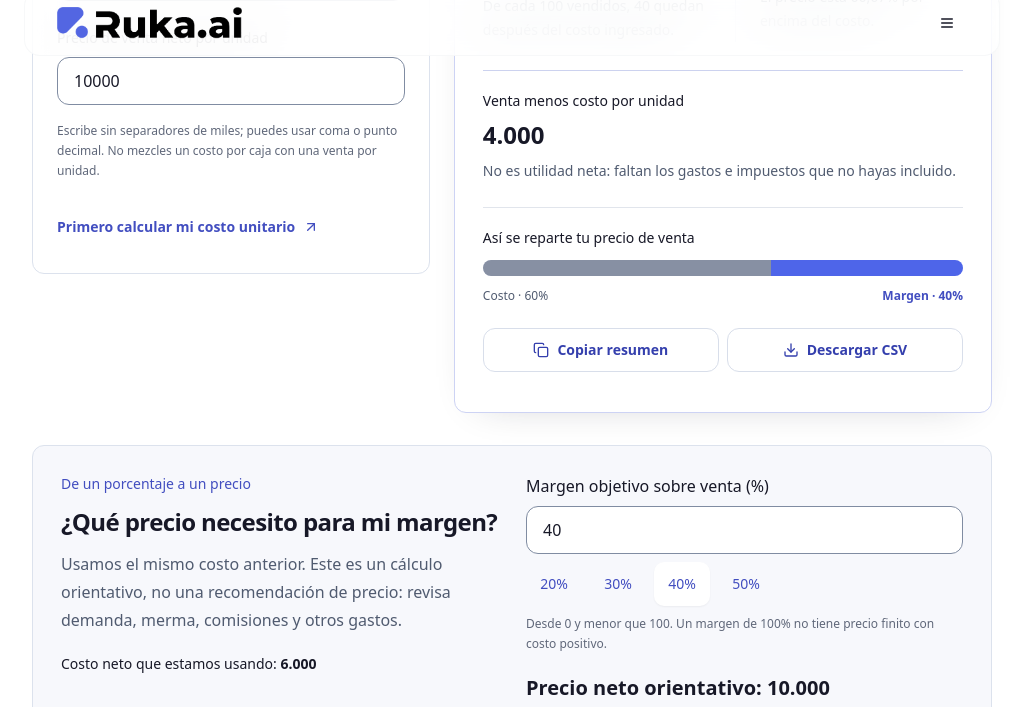
final tool workspace › reports a margin download failure without losing edits
(page scrolled)
Click the button "Descargar CSV" at (845, 350), box [727,328,963,372]
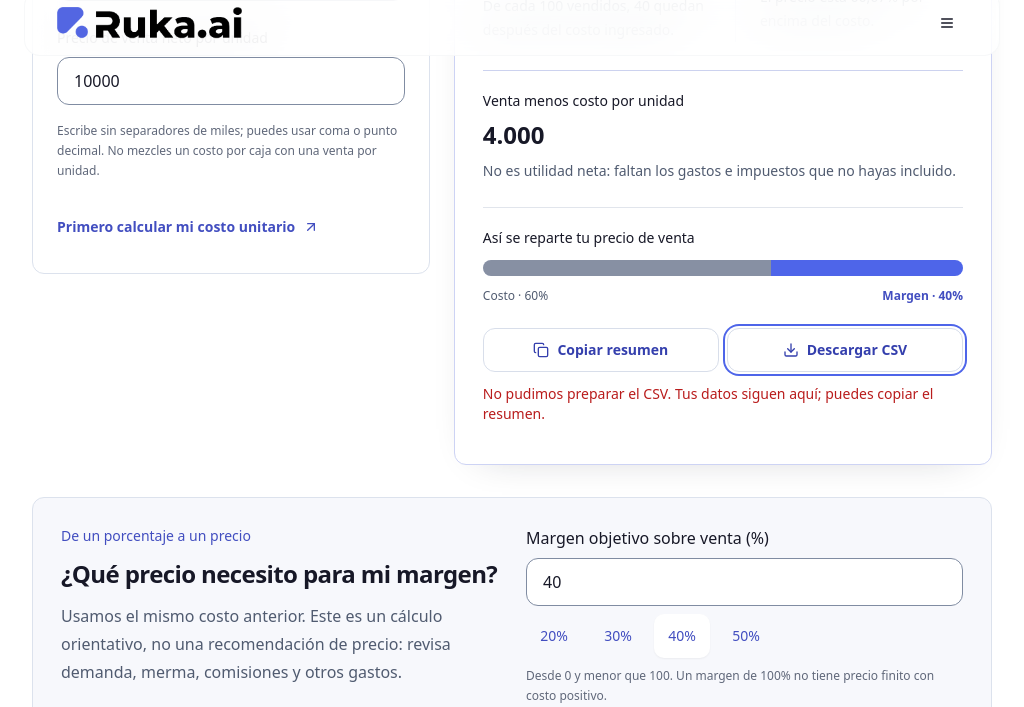
Now the message "No pudimos preparar el CSV. Tus datos siguen aquí; puedes copiar el resumen." is shown, box [483,384,963,424]
